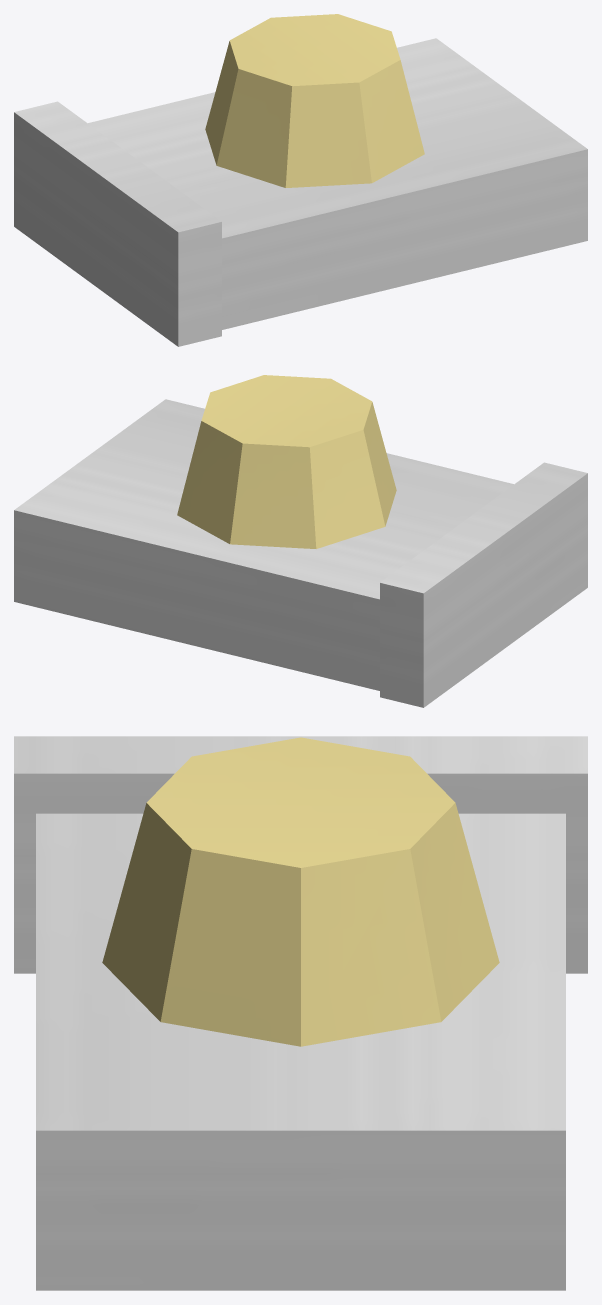
File: item_neurotrainer.obj
3 renders of one model, top to bottom at view 1: azimuth 30°, elevation 25°; view 2: azimuth 150°, elevation 25°; view 3: azimuth 270°, elevation 25°, orthographic. The views are drawn at different scales.
Parts seen in each view (by area): view 1: item_neurotrainer; view 2: item_neurotrainer; view 3: item_neurotrainer.
Boxes of the visible parts, x1,y1,x2,y2 form: item_neurotrainer: [14, 14, 587, 346]; item_neurotrainer: [14, 375, 587, 707]; item_neurotrainer: [14, 736, 587, 1290].
Size of the model in its own units: 0.38 by 0.16 by 0.26.
